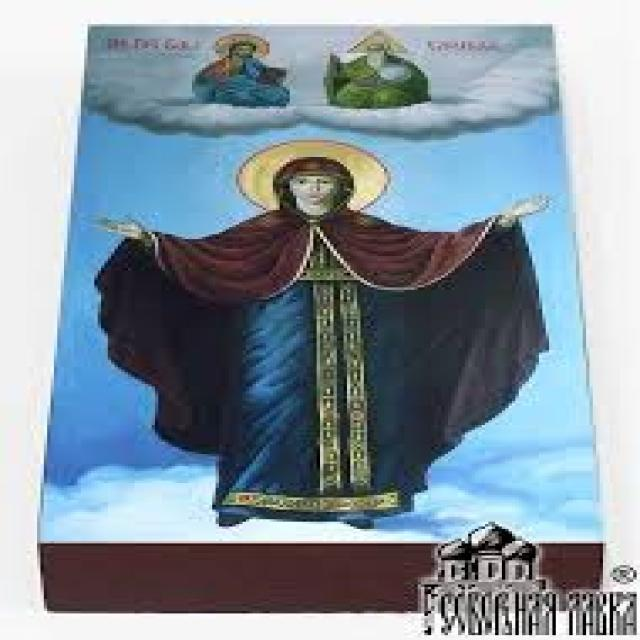mother of god: (80, 130, 568, 532)
